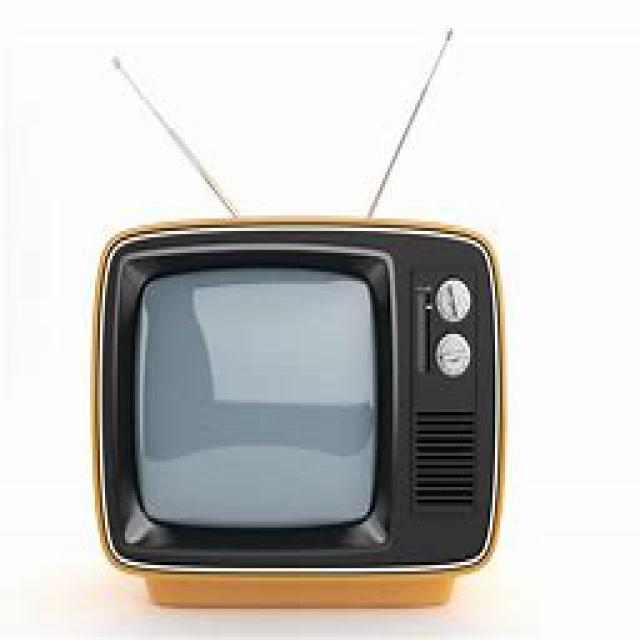tv: (90, 215, 505, 609)
